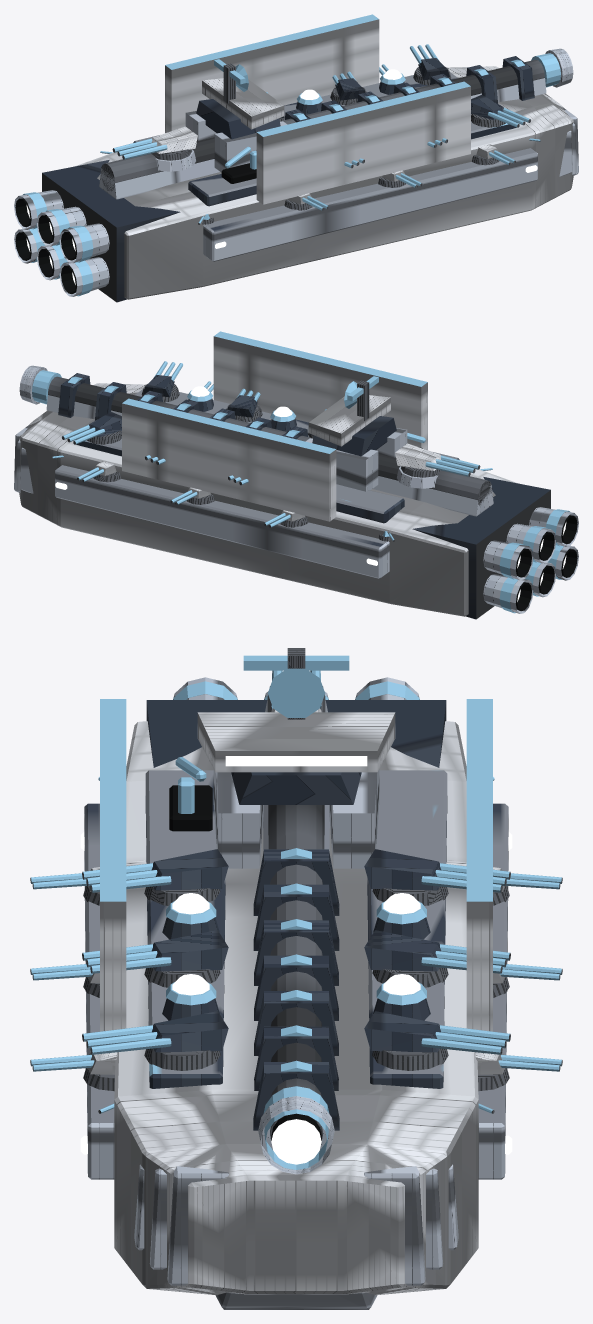
Rendered from battleship.glb.
The picture shows the model from 3 angles, top to bottom: view 1: azimuth 30°, elevation 25°; view 2: azimuth 150°, elevation 25°; view 3: azimuth 270°, elevation 25°; orthographic projection. The views are drawn at different scales.
Visible parts, largest first — view 1: hull_body, weapon_mounts, engine_block, sensor_tower, shield_domes; view 2: hull_body, weapon_mounts, engine_block, sensor_tower, shield_domes; view 3: hull_body, weapon_mounts, sensor_tower, engine_block, shield_domes.
Boxes of the visible parts, x1,y1,x2,y2 form: hull_body: [75, 14, 578, 299]; weapon_mounts: [99, 44, 573, 224]; engine_block: [14, 160, 180, 302]; sensor_tower: [185, 59, 287, 172]; shield_domes: [296, 69, 405, 114]; hull_body: [14, 331, 517, 616]; weapon_mounts: [19, 361, 493, 541]; engine_block: [412, 477, 578, 619]; sensor_tower: [305, 376, 407, 491]; shield_domes: [187, 386, 296, 431]; hull_body: [80, 699, 512, 1309]; weapon_mounts: [30, 670, 562, 1174]; sensor_tower: [197, 648, 395, 868]; engine_block: [146, 677, 446, 767]; shield_domes: [162, 893, 430, 1020].
Size of the model in its own units: 60 by 19.7 by 26.65.
Materials: 1 (1 with a texture image).
